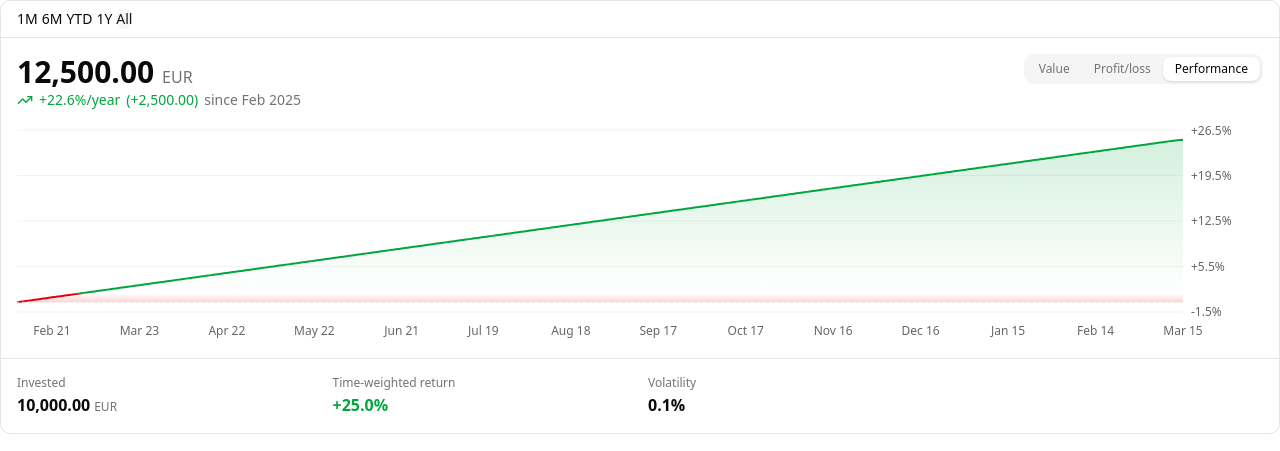
Test: PortfolioOverview › measures a shorter window from its own first day
Click the button "1M".
click(27, 19)  # box [17,9,38,29]
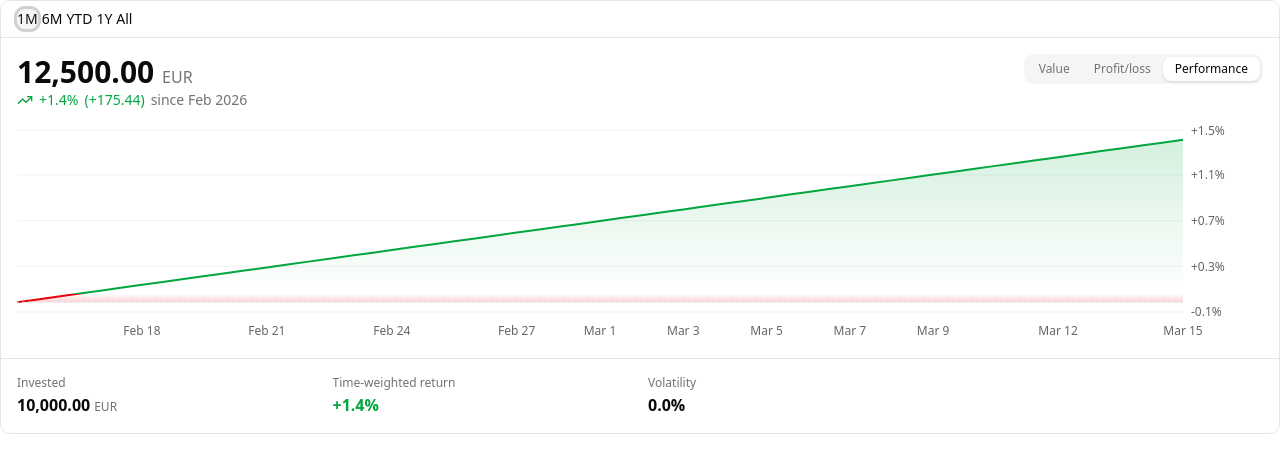
Expected: the text "+25.0%" is gone
Expected: the text "since Feb 2026" is shown, [151,90,247,110]
